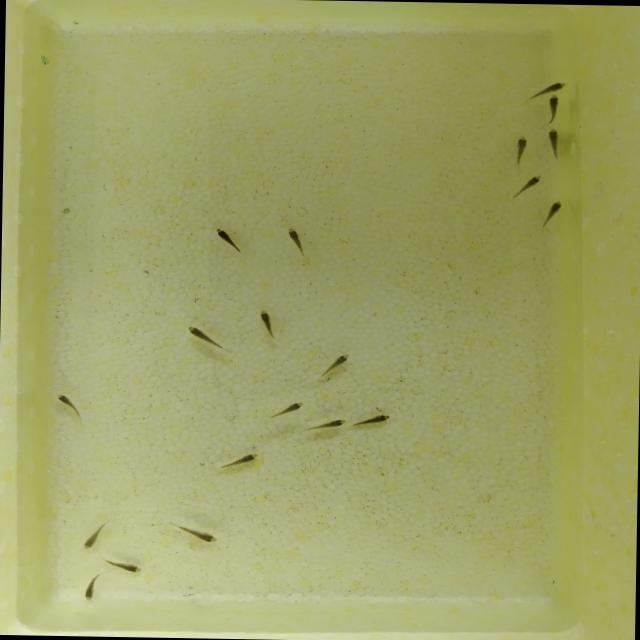fingerling: (170, 516, 221, 546), (278, 222, 314, 261), (180, 322, 224, 349), (504, 173, 552, 195), (536, 198, 568, 226), (540, 127, 565, 162), (212, 230, 244, 254), (108, 556, 144, 576), (223, 450, 262, 468), (324, 348, 350, 375), (533, 78, 571, 96), (258, 306, 277, 341), (80, 526, 102, 553), (272, 402, 308, 418), (53, 391, 79, 412), (306, 418, 345, 432), (512, 134, 528, 166), (84, 570, 100, 600), (356, 413, 394, 425), (546, 95, 562, 120)
